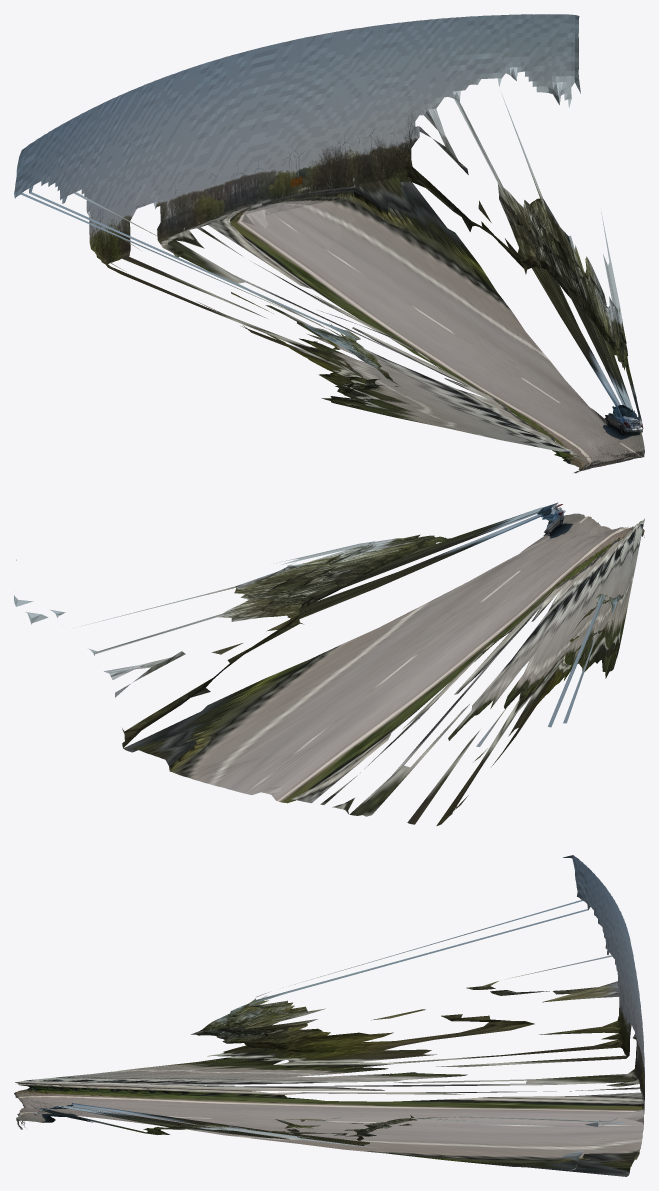
3 views of the same model, one above another, from view 1: azimuth 30°, elevation 25°; view 2: azimuth 150°, elevation 25°; view 3: azimuth 270°, elevation 25° (orthographic). The views are drawn at different scales.
Visible parts, largest first — view 1: defaultobject; view 2: defaultobject; view 3: defaultobject.
Part boxes in pixels (<box>): defaultobject: <box>14,14,644,473</box>; defaultobject: <box>14,502,644,825</box>; defaultobject: <box>14,855,644,1176</box>.
Bounding box in the file's own units: 40.81 × 12.27 × 44.5.
1 material, 1 textured.
